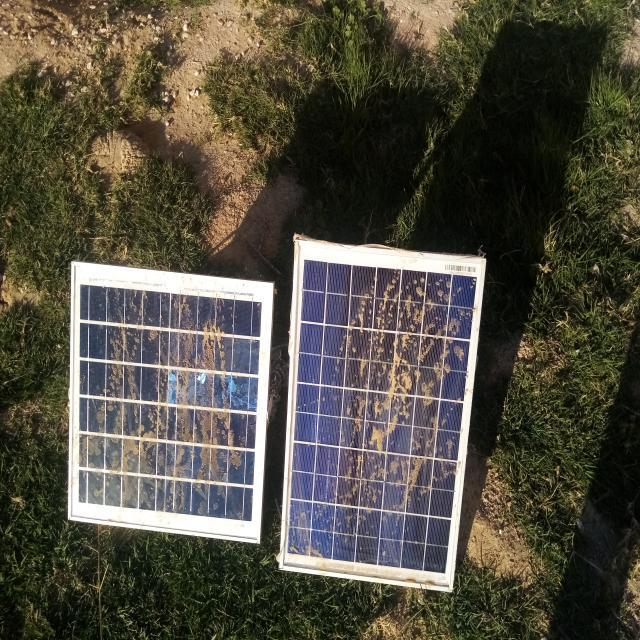faulty: (281, 241, 484, 591), (68, 263, 274, 544)
